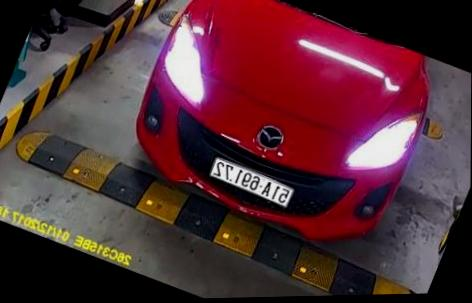License_Plate: (208, 154, 303, 213)
